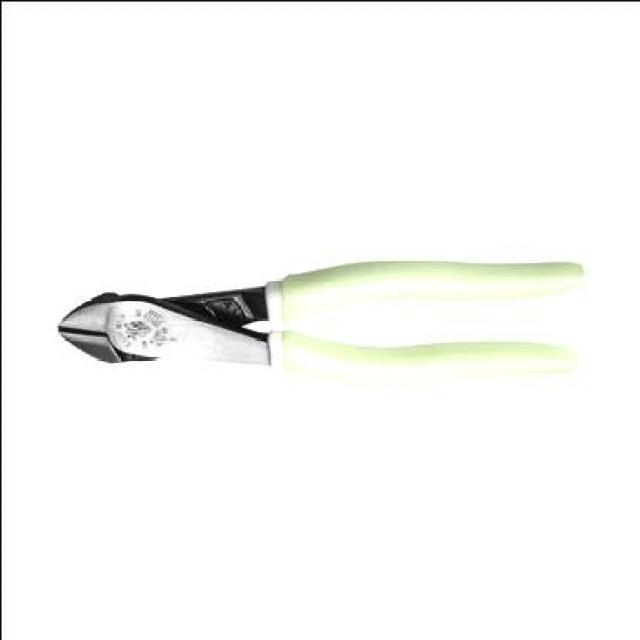pliers: (56, 251, 586, 384)
